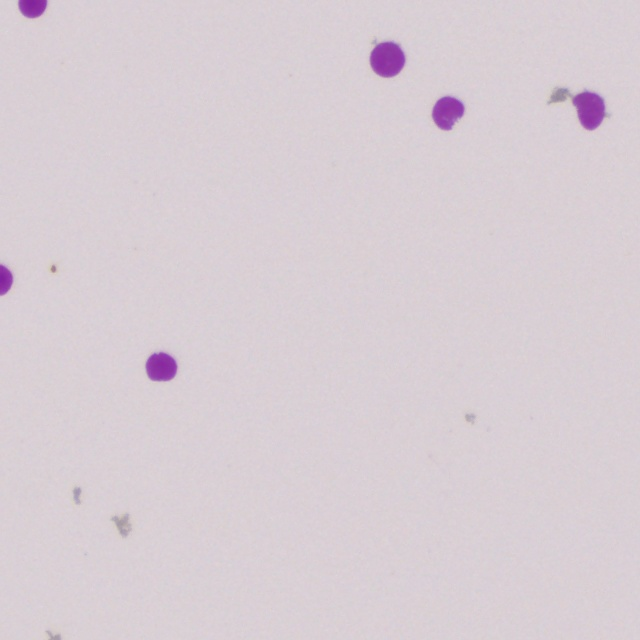viable: (371, 42, 404, 77), (574, 92, 604, 130), (433, 97, 464, 130), (146, 353, 176, 380), (19, 1, 47, 18), (1, 265, 12, 294)
